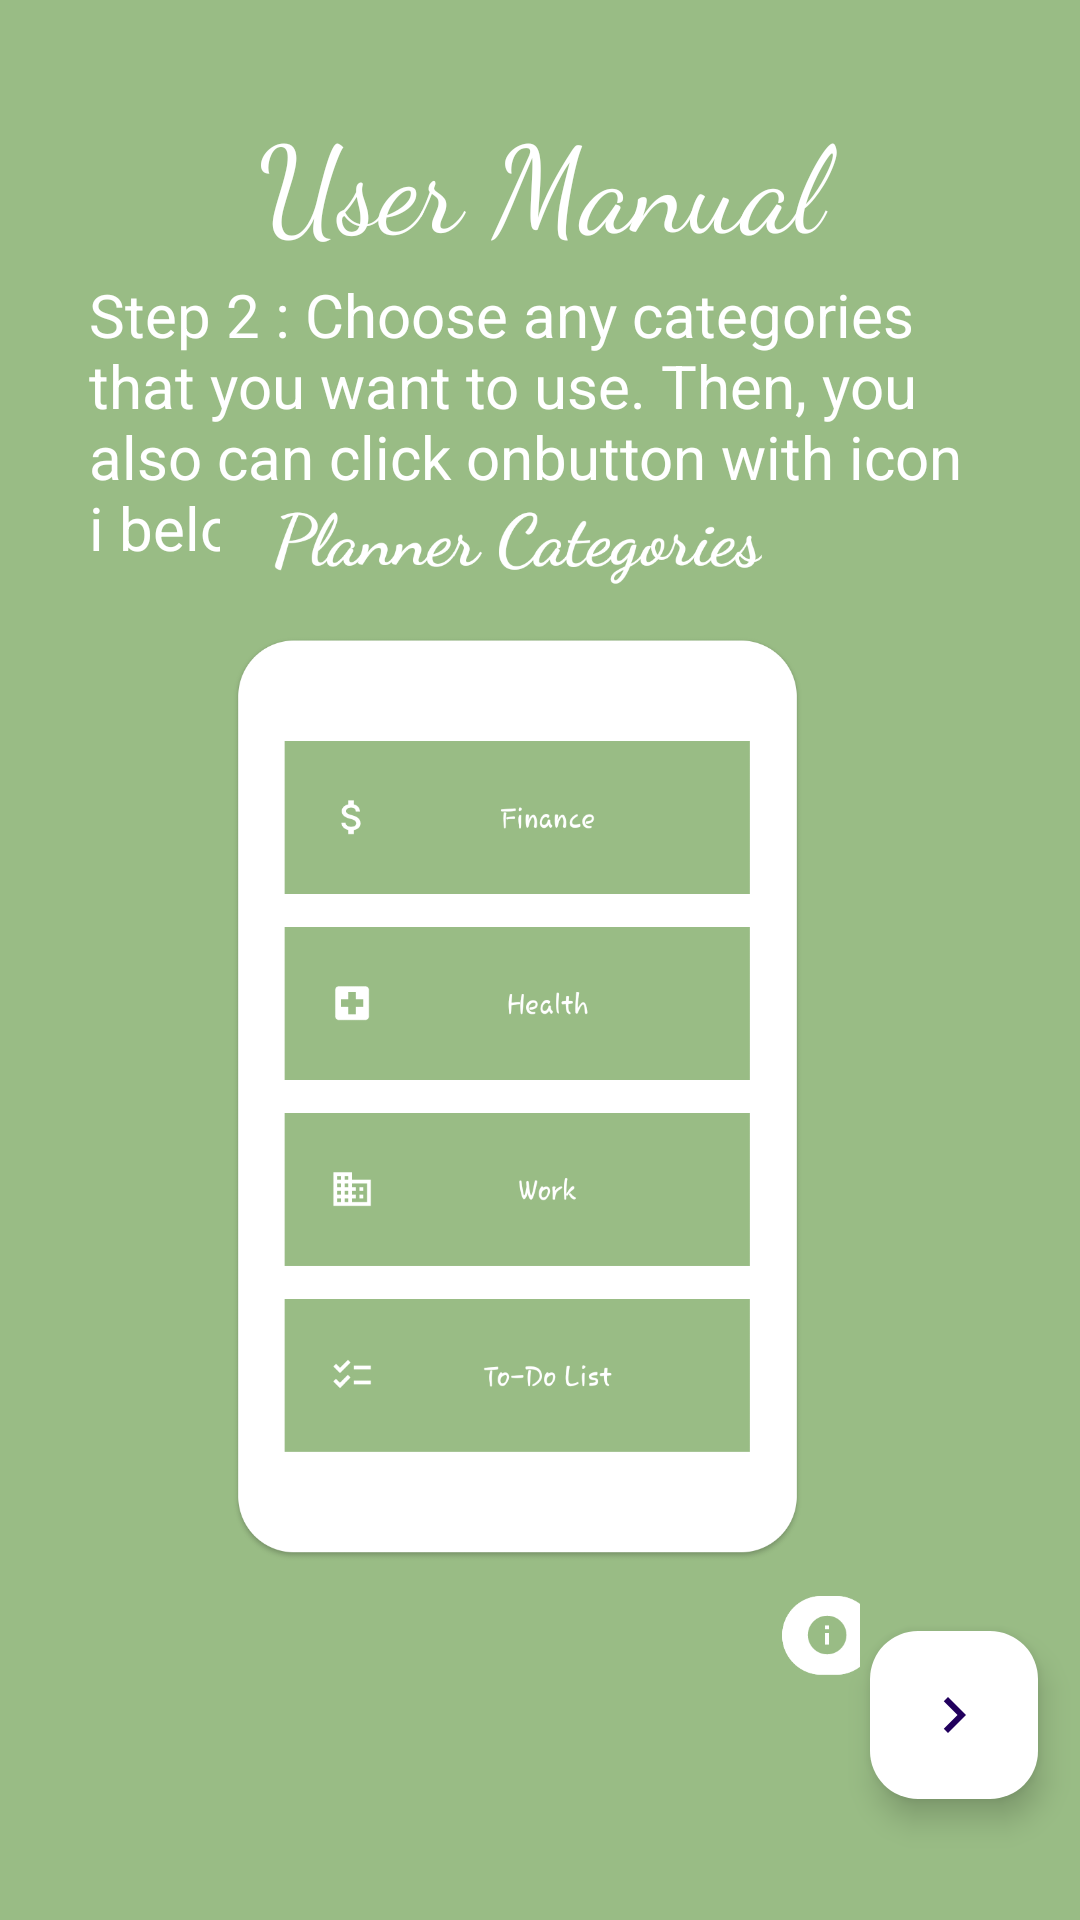

Icons on this 1080×1920 Android screen, each with the point to tap as (x=x, y=y):
navigate next: (x=954, y=1715)
